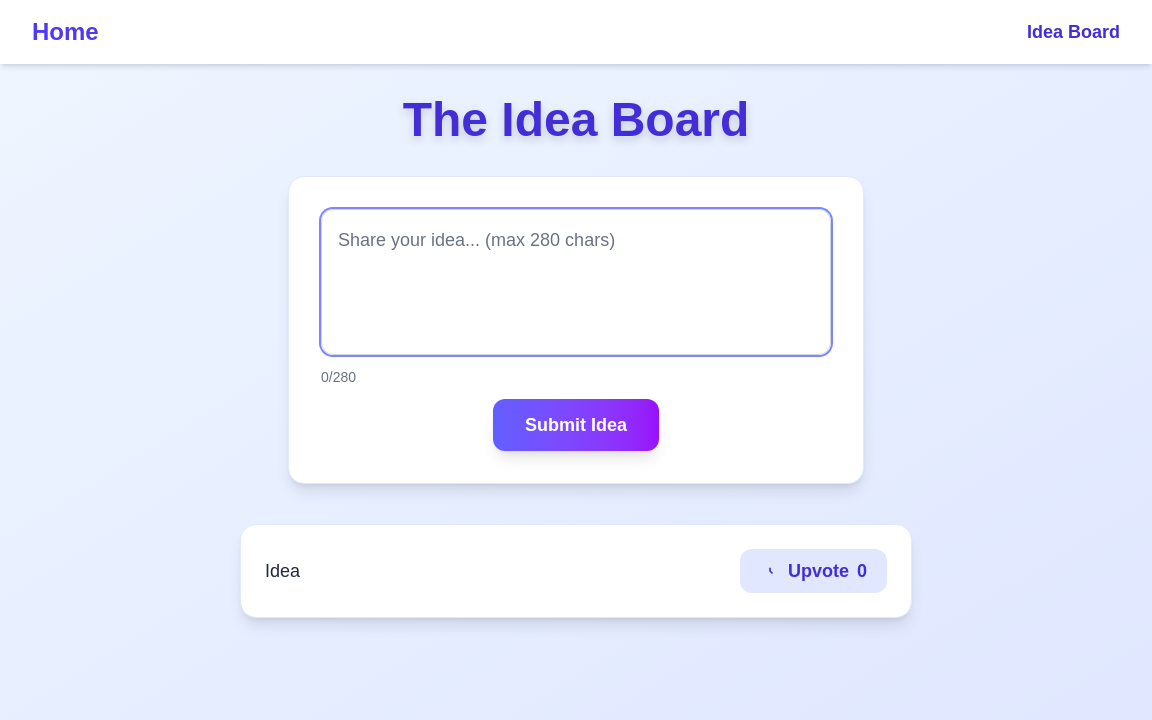
Test: IdeaBoard Page › upvotes an idea
The image size is (1152, 720).
Expected: the text "Idea" is shown, [265,561,300,581]
Click the button "Upvote 0".
click(814, 571)  # box [740,549,887,593]
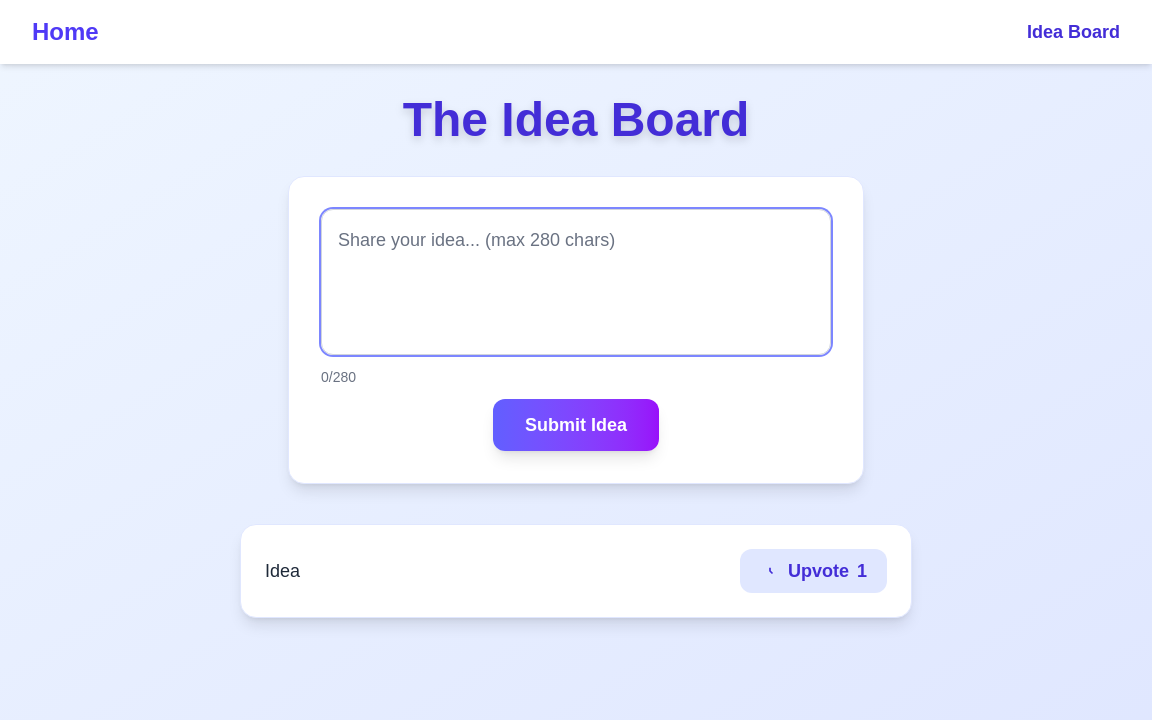
Expected: the text "1" is shown, [857,557,867,585]
